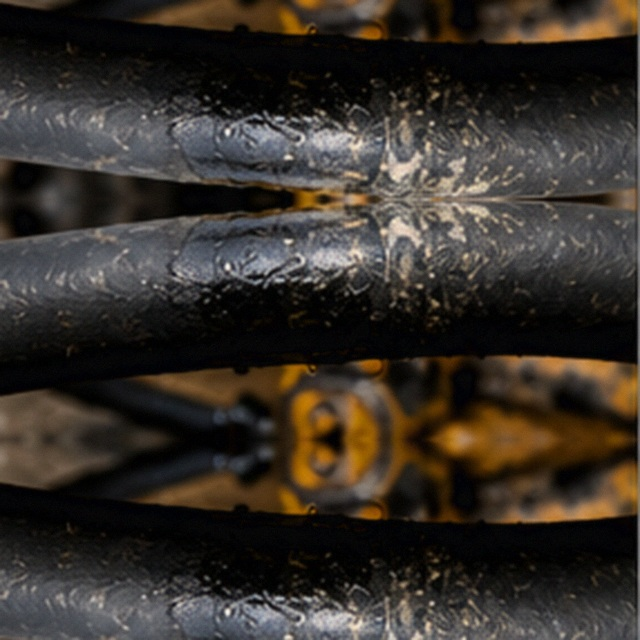hydraulic_oil_leak: (179, 209, 417, 451)
